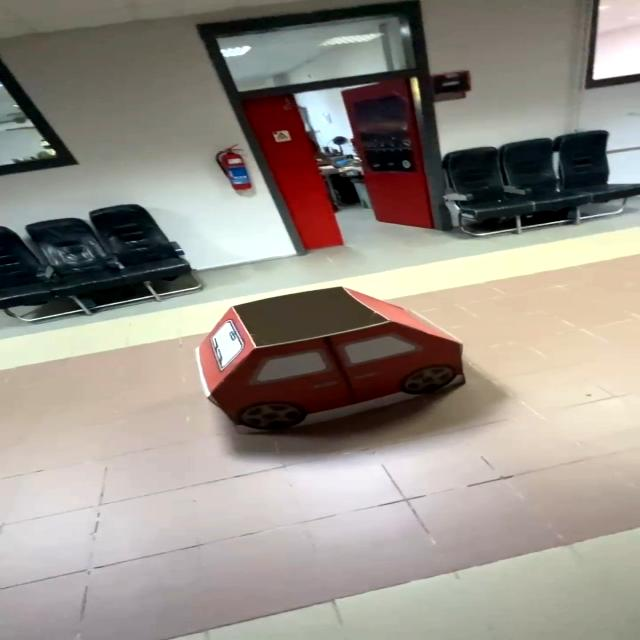red_car: (155, 273, 506, 461)
